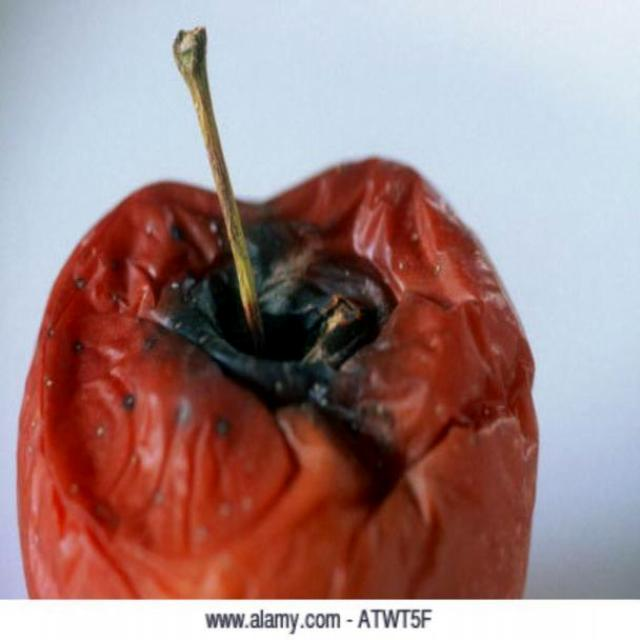ROT: (20, 114, 557, 620)
